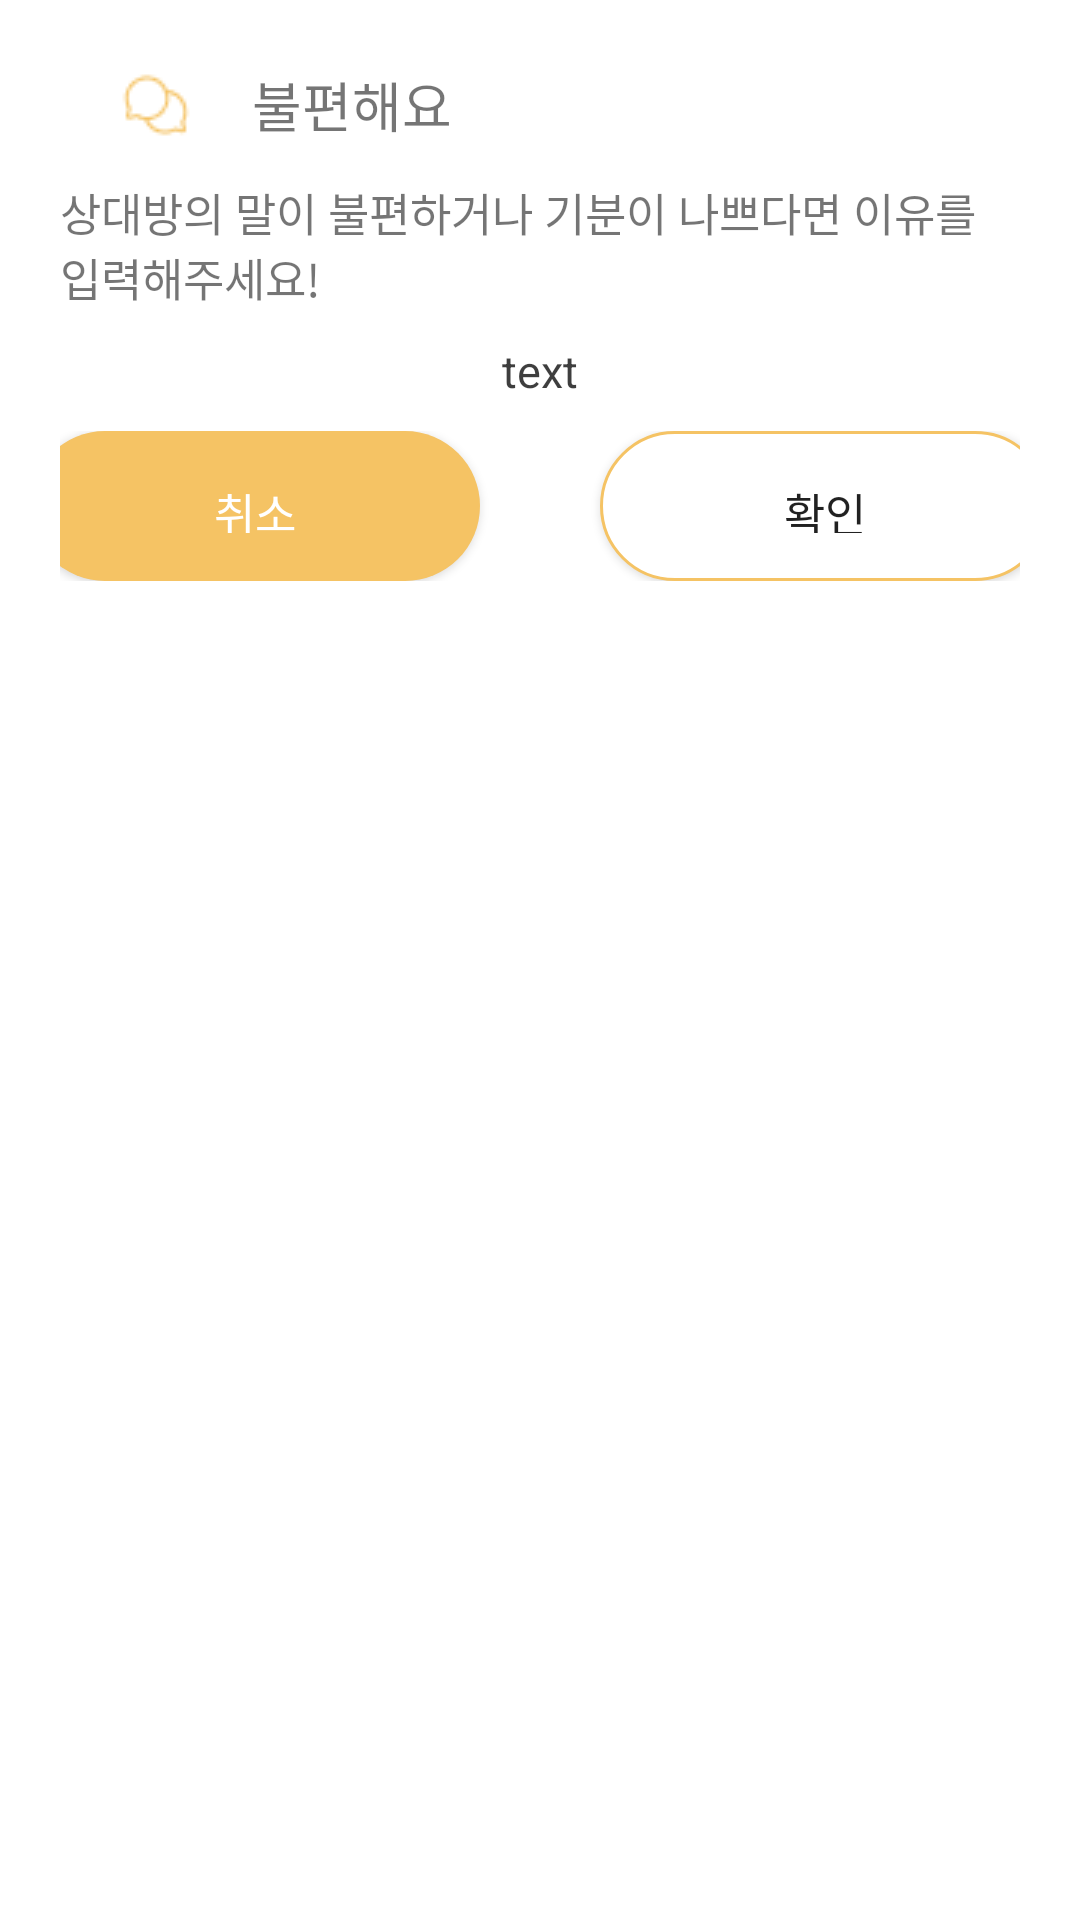

Named icons in this screenshot (1080w x 1920h) and their bounding boxes, (x1, y1, x2, y2):
chat: (123, 74, 189, 136)
